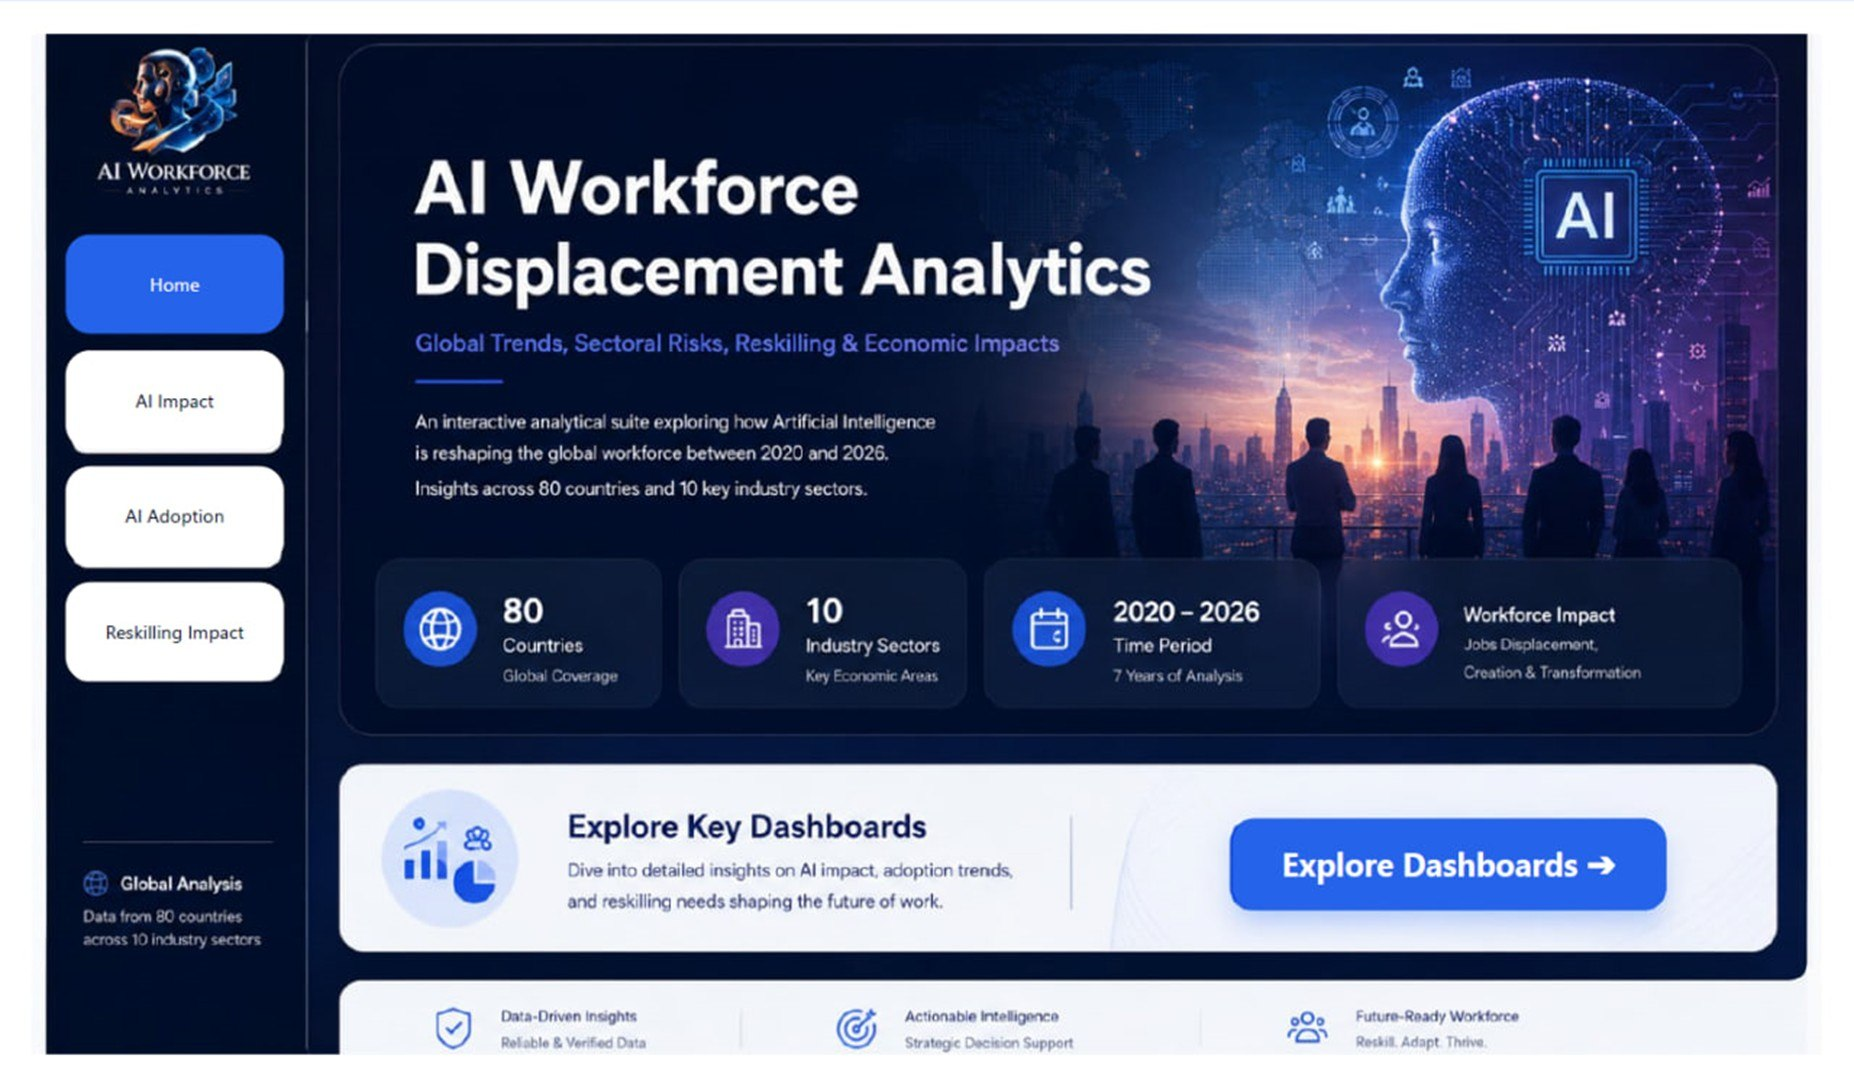

The page's visual inventory and layout, read from the dashboard file:
{"tool":"powerbi","page":{"name":"Home","canvas":[1280,720],"ordinal":0},"visuals":[{"type":"actionButton","box":[858.6,554.3,310,64.3],"z":2000},{"type":"pageNavigator","box":[24.3,141.4,155.7,317.1],"z":4001}]}

Visuals, with their boxes on the page's 1280x720 design canvas (x1, y1, x2, y2). These are canvas units, not pixel positions in the 1854x1087 screenshot, which may show the page scaled, cropped or inside an application window:
actionButton: 859/554/1169/619
pageNavigator: 24/141/180/458
